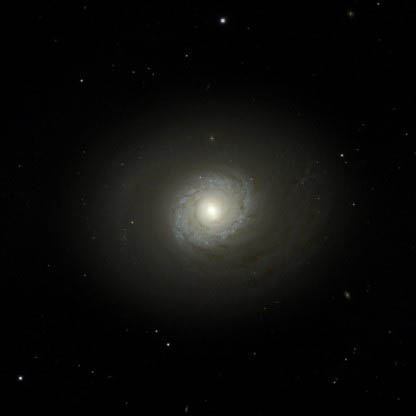Messier 94: (89, 89, 353, 318)
